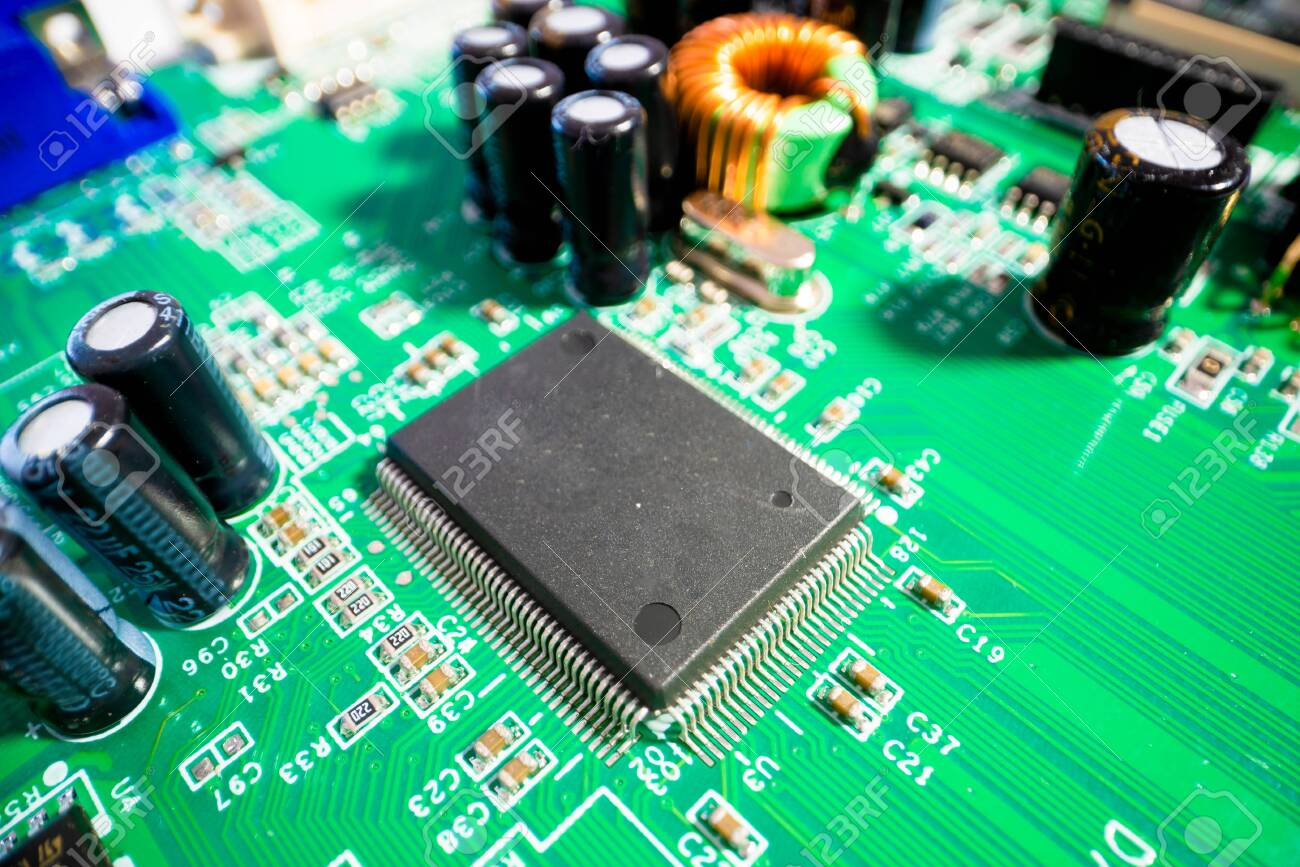capacitor: (1, 389, 271, 627), (1037, 108, 1253, 353), (63, 290, 281, 521), (551, 92, 652, 306), (474, 58, 556, 259), (584, 35, 668, 90), (530, 2, 614, 51), (452, 24, 526, 57)
